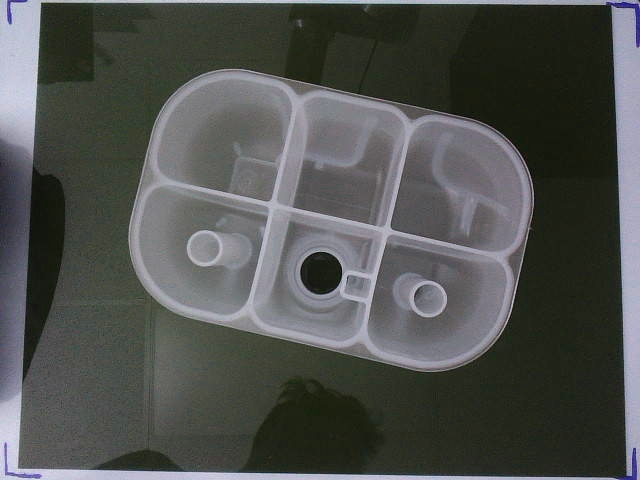reservoir_transparent_Under: (129, 69, 534, 373)
